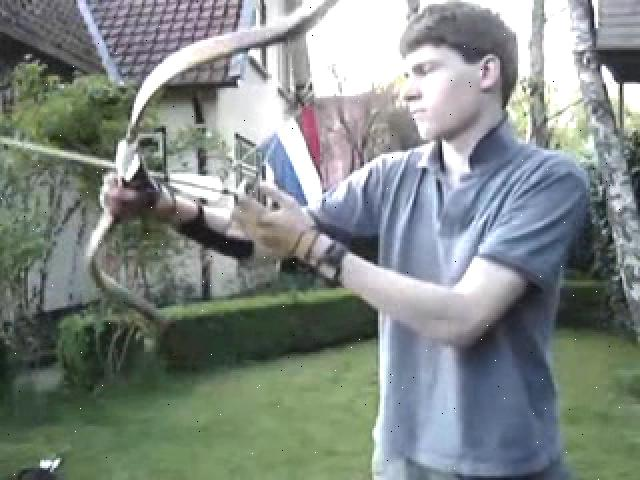P: (103, 4, 589, 472)
